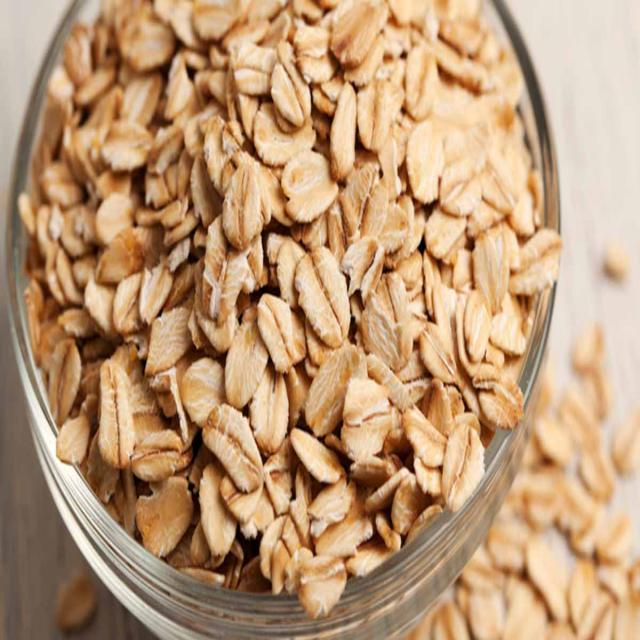avena: (13, 1, 561, 598)
